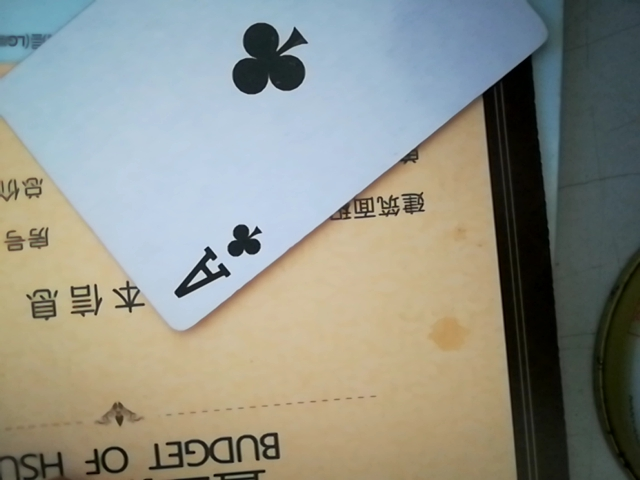mh a: (7, 1, 566, 341)
